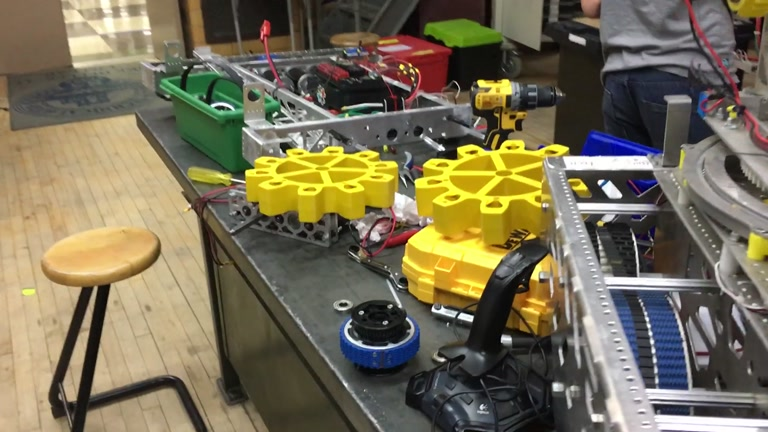gear: (413, 138, 603, 245), (243, 144, 400, 224)
